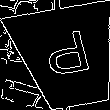P_S: (39, 29, 96, 86)
